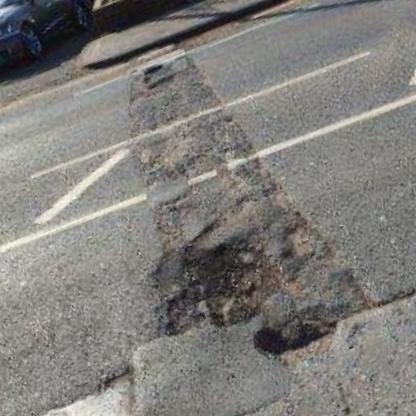pothole: (129, 204, 301, 350), (245, 297, 344, 373), (137, 56, 179, 98)
